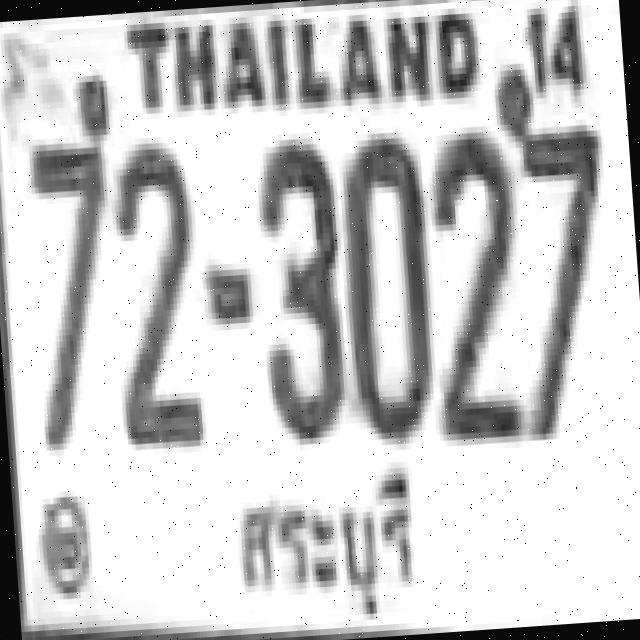0: (332, 128, 436, 438)
2: (418, 124, 525, 440), (102, 138, 205, 448)
3: (247, 130, 347, 440)
7: (505, 112, 616, 434), (21, 134, 121, 444)
SaraBuri: (218, 461, 436, 632)
